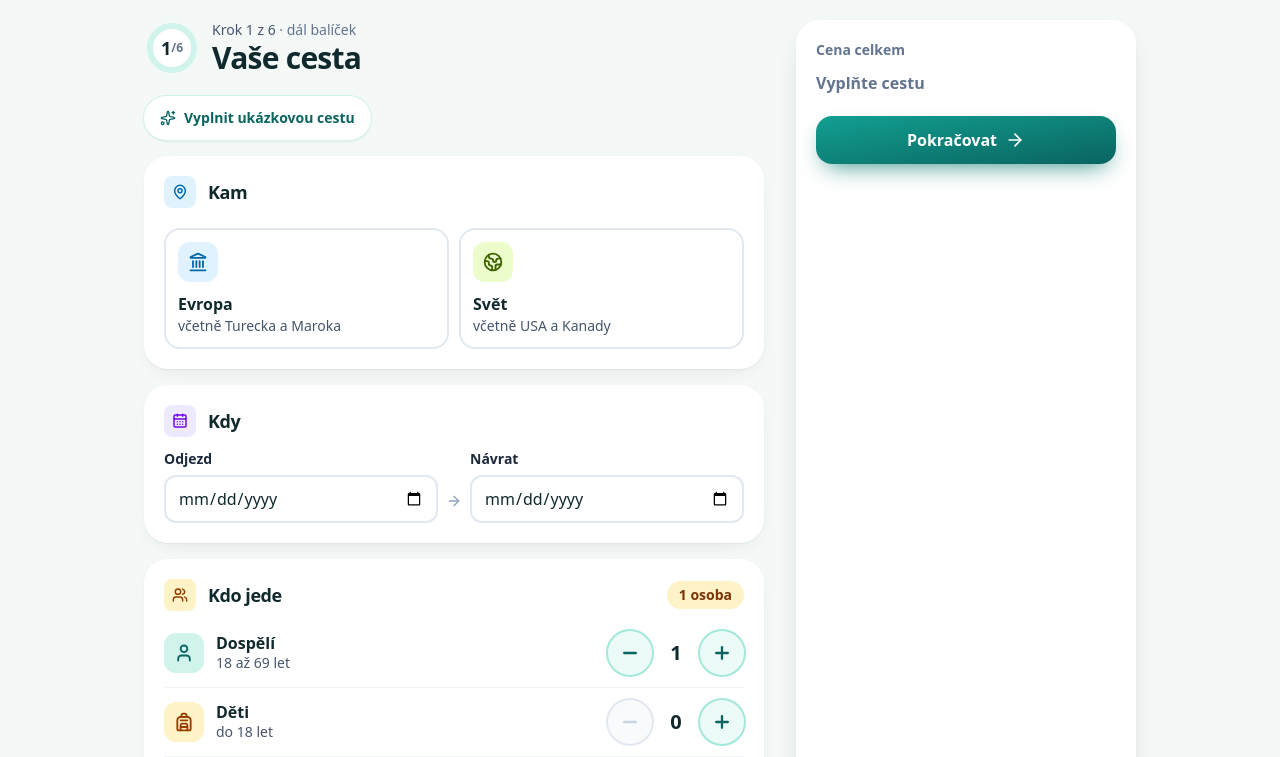
Scenario: PurchaseFlow › ve variantě A jsou balíčky pod sebou a žádný není vybraný
What coordinates should you click on to do the following:
click the button "Vyplnit ukázkovou cestu"
I would click on:
 (257, 118)
Its box is [144,96,371,140].
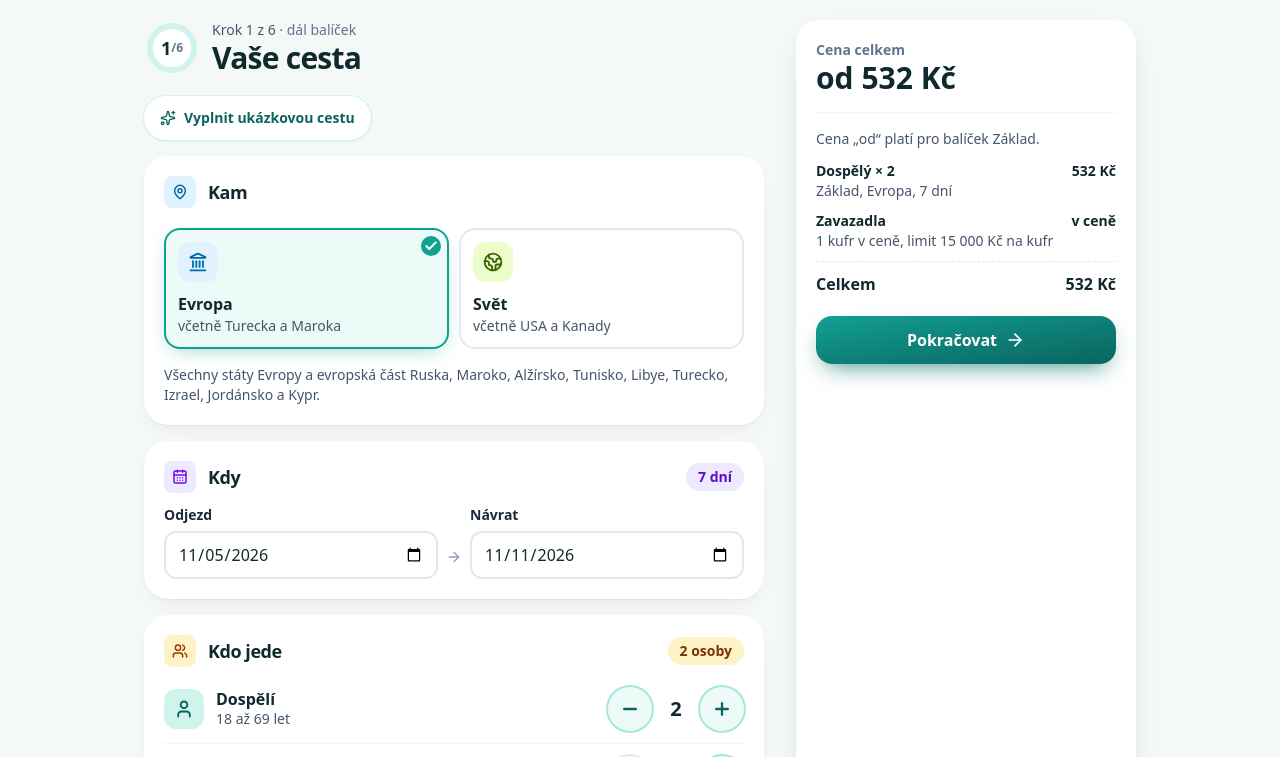
What coordinates should you click on to do the following:
click the button "Pokračovat"
I would click on:
 (966, 340)
Its box is [816,316,1116,364].
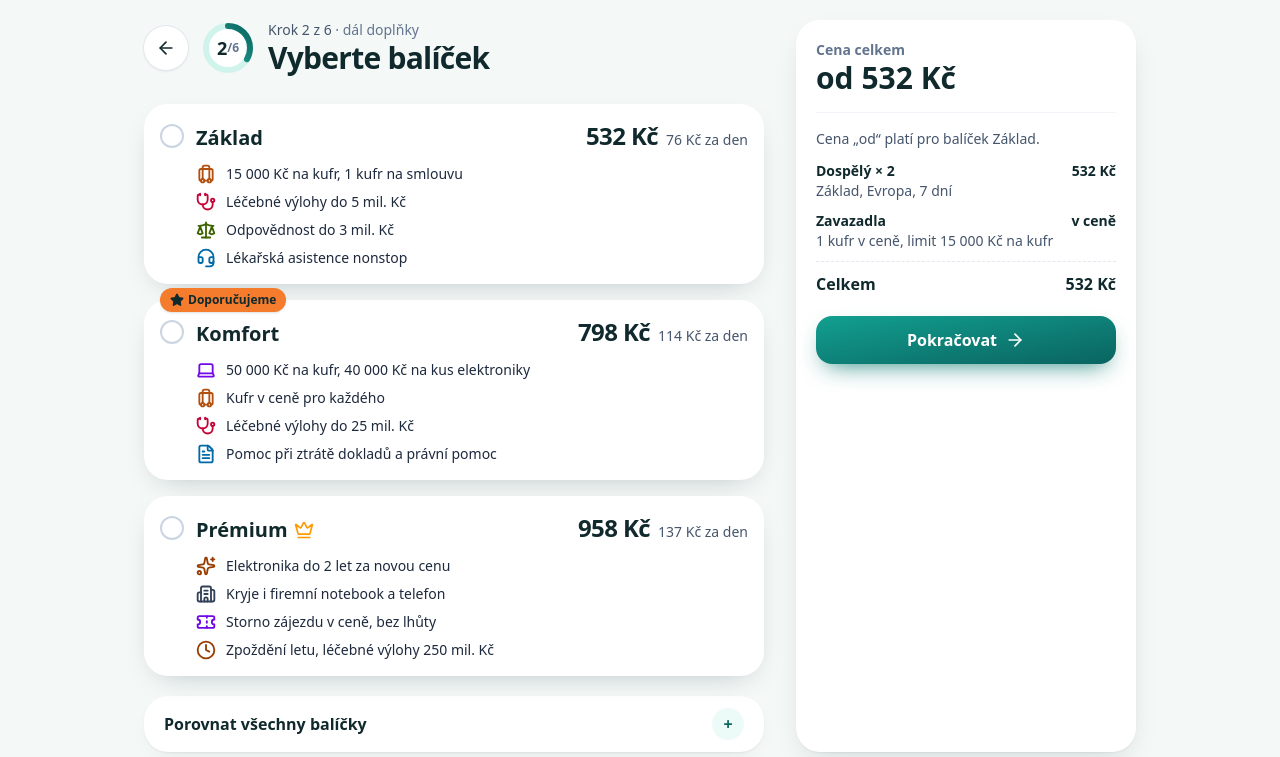
Result: the radio button that starts with "Základ" is not checked at [144,104,764,284]
Result: the radio button that starts with "Doporučujeme" is not checked at [144,300,764,480]
Result: the radio button that starts with "Prémium" is not checked at [144,496,764,676]
